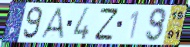1: (129, 10, 140, 40)
4: (71, 6, 91, 42)
9: (144, 7, 167, 44), (23, 6, 45, 40)
A: (38, 7, 65, 40)
Z: (93, 7, 120, 41)
